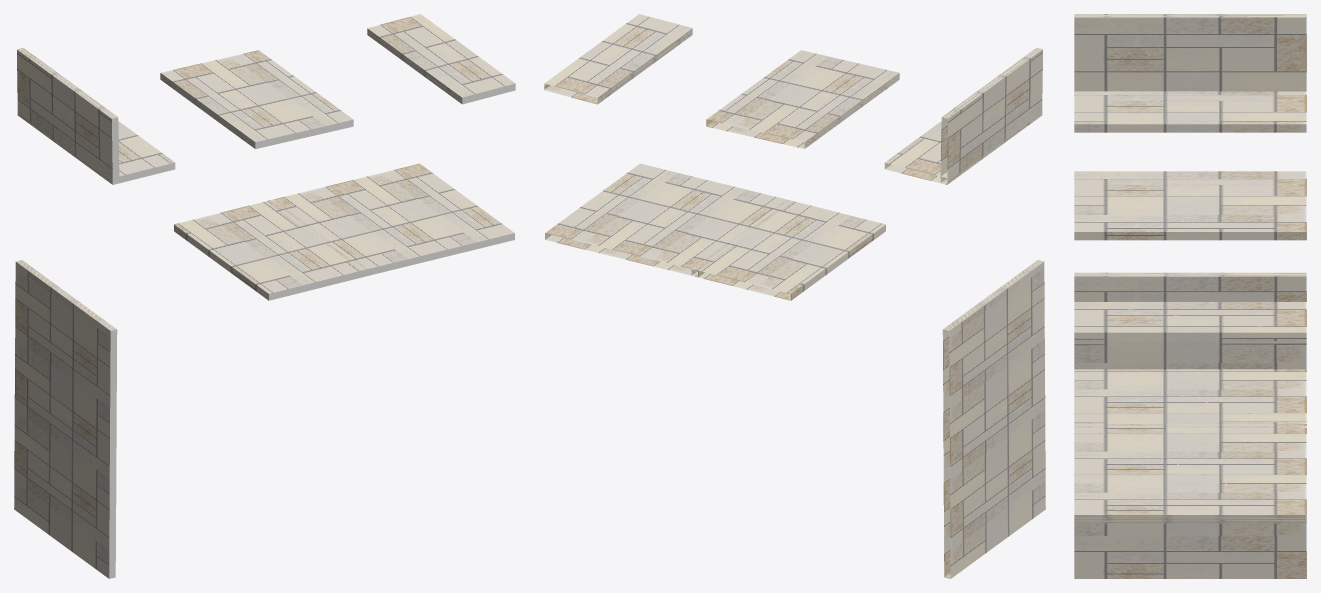
File: wall_3.obj
The picture shows the model from 3 angles, left to right: view 1: azimuth 30°, elevation 25°; view 2: azimuth 150°, elevation 25°; view 3: azimuth 270°, elevation 25°; orthographic projection. The views are drawn at different scales.
Parts seen in each view (by area): view 1: walls; view 2: walls; view 3: walls.
Boxes of the visible parts, x1,y1,x2,y2 form: walls: (14, 14, 515, 578); walls: (544, 14, 1045, 578); walls: (1074, 14, 1306, 578).
Size of the model in its own units: 6.18 by 6.67 by 2.5.
1 material, 1 textured.
